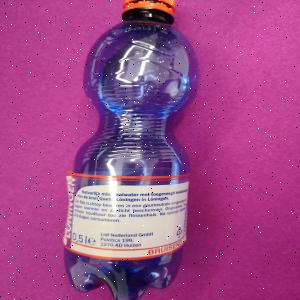Plastic-bottle: (62, 1, 204, 300)
